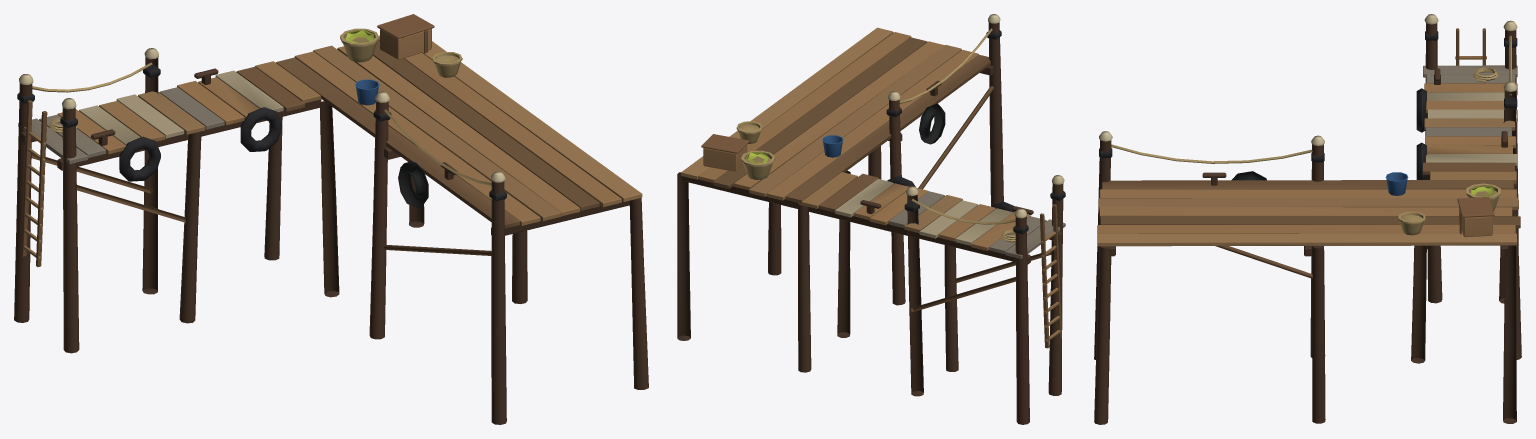
Rendered from jetty-DBLJsqNW.glb.
3 views of the same model, side by side, from view 1: azimuth 30°, elevation 25°; view 2: azimuth 150°, elevation 25°; view 3: azimuth 270°, elevation 25° (orthographic). The views are drawn at different scales.
Visible parts, largest first — view 1: jetty; view 2: jetty; view 3: jetty.
Boxes of the visible parts, x1,y1,x2,y2 form: jetty: (14, 14, 648, 424); jetty: (677, 14, 1065, 424); jetty: (1094, 14, 1521, 424).
Bounding box in the file's own units: 8.97 × 5.16 × 8.66.
